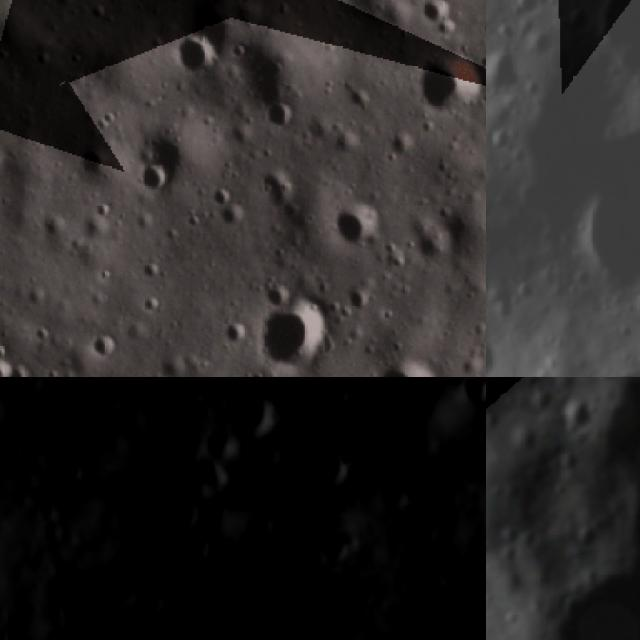crater: (568, 183, 640, 298), (537, 565, 640, 640), (249, 296, 337, 369), (584, 377, 640, 489), (217, 385, 290, 457), (410, 50, 482, 119), (301, 435, 362, 497), (578, 0, 640, 59), (306, 527, 364, 585), (164, 30, 228, 76), (154, 489, 206, 542), (330, 197, 385, 246), (231, 573, 282, 624), (124, 581, 172, 630), (486, 44, 521, 104), (162, 556, 205, 600), (374, 352, 442, 377), (83, 326, 118, 371), (135, 160, 175, 197), (0, 377, 51, 405), (178, 528, 215, 566), (461, 566, 486, 618), (54, 455, 88, 490), (0, 352, 34, 377), (510, 0, 543, 22), (486, 338, 500, 377), (412, 626, 449, 640)
